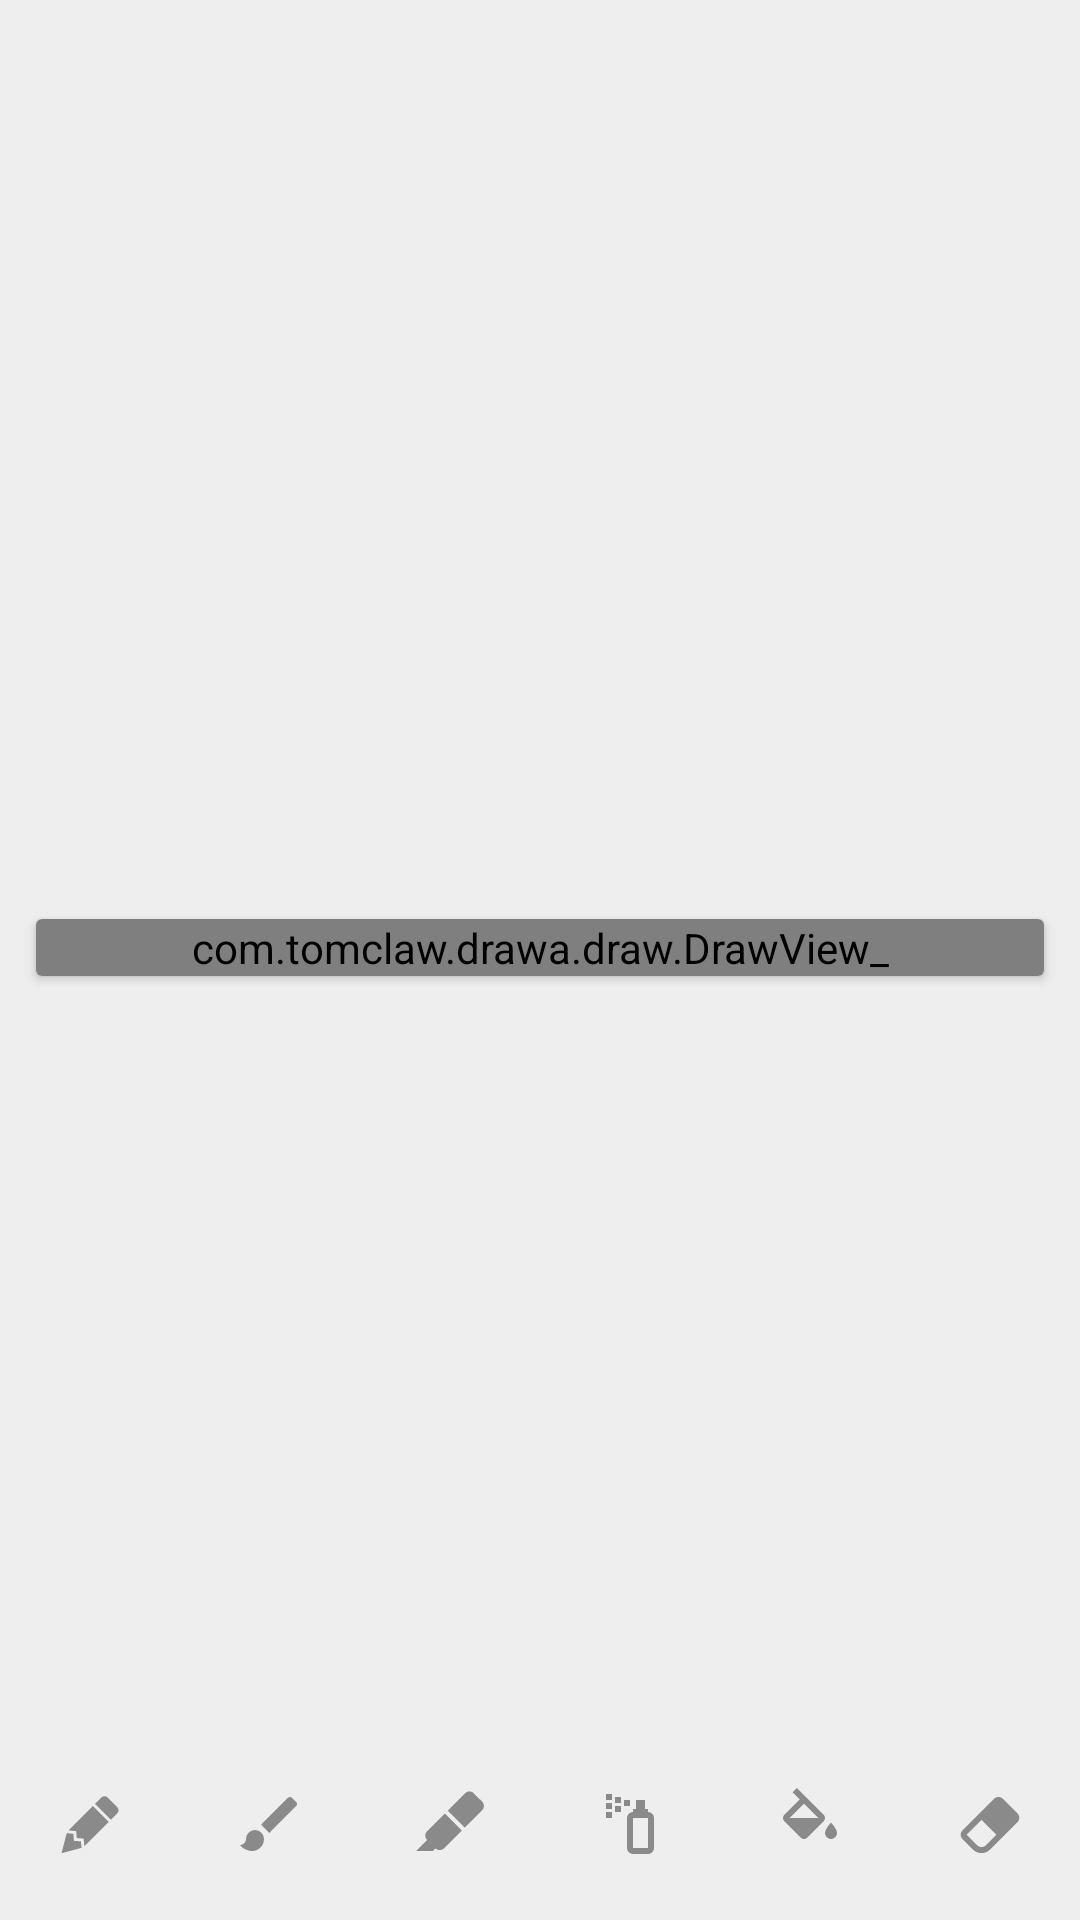

Icon bounding boxes for this 1080px×1920px phone screenshot, format (x1, y1, x2, y2):
brush: (240, 1797, 297, 1851)
eraser: (960, 1797, 1020, 1853)
lead pencil: (61, 1796, 119, 1853)
marker: (416, 1791, 484, 1851)
spray: (606, 1794, 654, 1854)
